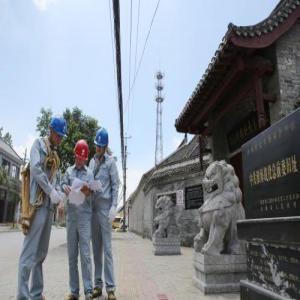blue: (49, 115, 68, 149), (95, 128, 110, 159)
red: (74, 140, 90, 170)
